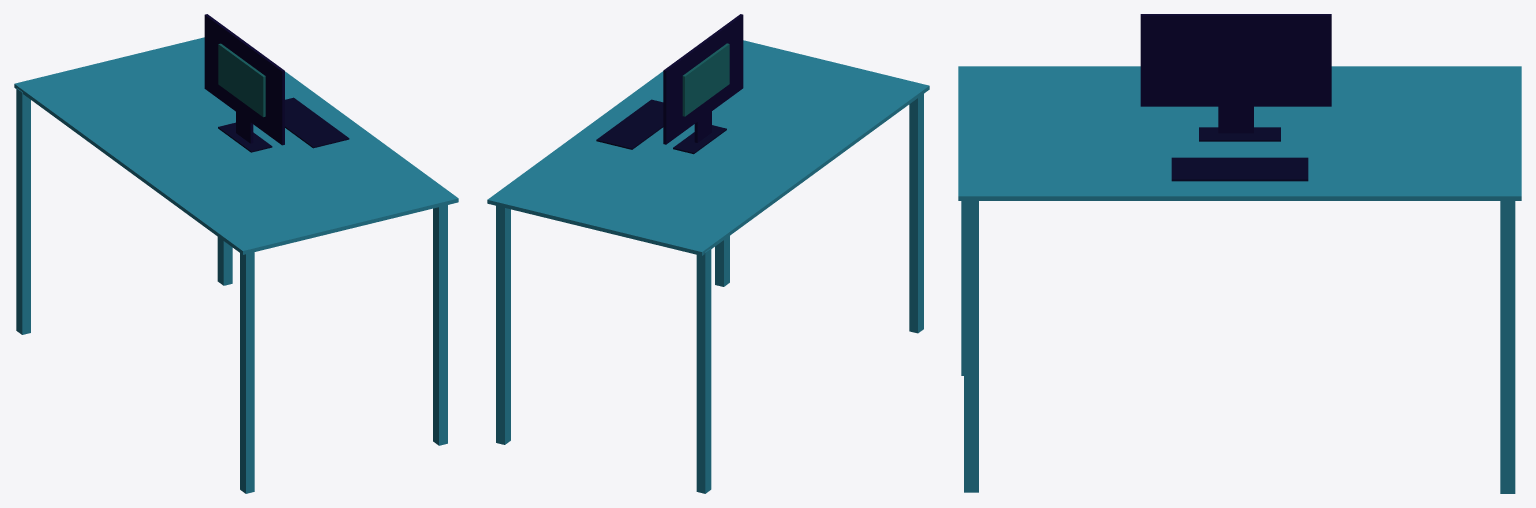
File: table.glb
3 renders of one model, left to right at view 1: azimuth 30°, elevation 25°; view 2: azimuth 150°, elevation 25°; view 3: azimuth 270°, elevation 25°, orthographic. The views are drawn at different scales.
Visible parts, largest first — view 1: Cube, Cube.005, Cube.004, Cube.001, Cube.002, Cube.007, Cube.008, Cube.003, Cube.009; view 2: Cube, Cube.005, Cube.004, Cube.003, Cube.001, Cube.007, Cube.008, Cube.002, Cube.009, Cube.006; view 3: Cube, Cube.005, Cube.003, Cube.002, Cube.008, Cube.006, Cube.009.
Part boxes in pixels (box(x1,y1,x2,y2)): Cube: box(14, 37, 458, 254); Cube.005: box(204, 14, 284, 145); Cube.004: box(16, 88, 30, 334); Cube.001: box(240, 252, 254, 493); Cube.002: box(433, 205, 447, 445); Cube.007: box(218, 43, 265, 117); Cube.008: box(285, 97, 349, 148); Cube.003: box(217, 237, 232, 285); Cube.009: box(218, 122, 272, 152); Cube: box(487, 40, 929, 255); Cube.005: box(663, 14, 743, 144); Cube.004: box(696, 248, 711, 493); Cube.003: box(496, 206, 510, 444); Cube.001: box(909, 94, 923, 333); Cube.007: box(682, 43, 729, 116); Cube.008: box(596, 99, 663, 149); Cube.002: box(715, 236, 729, 286); Cube.009: box(673, 125, 726, 154); Cube.006: box(694, 97, 711, 142); Cube: box(958, 66, 1521, 200); Cube.005: box(1140, 14, 1331, 106); Cube.003: box(1500, 201, 1515, 493); Cube.002: box(964, 201, 978, 492); Cube.008: box(1171, 157, 1308, 181); Cube.006: box(1218, 47, 1253, 133); Cube.009: box(1199, 127, 1280, 141).
Size of the model in its own units: 3.33 by 5.04 by 6.09.
